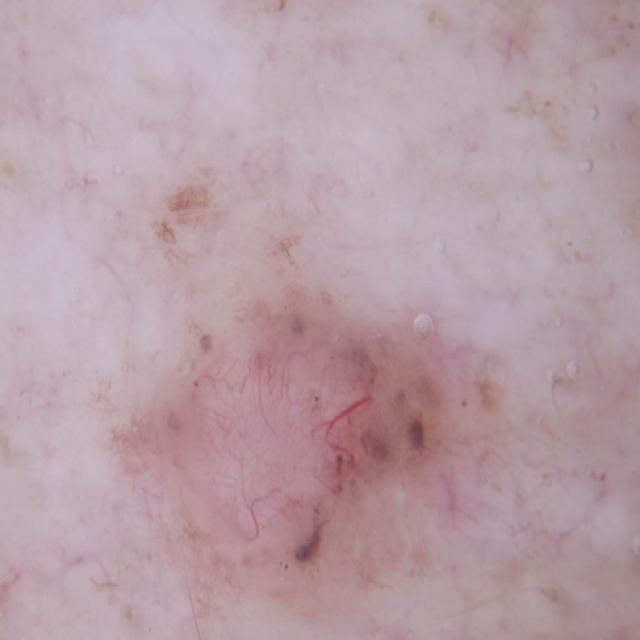Carcinoma: (109, 241, 536, 640)
